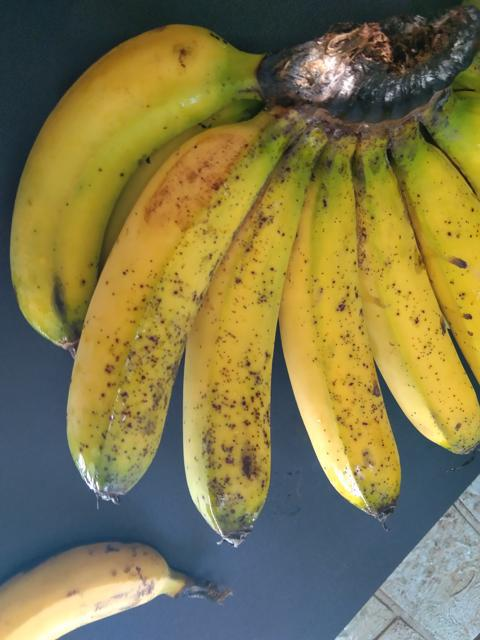ripe: (164, 126, 312, 570), (76, 121, 253, 491), (3, 30, 218, 312), (264, 143, 402, 503), (344, 122, 479, 450), (16, 524, 172, 639)
